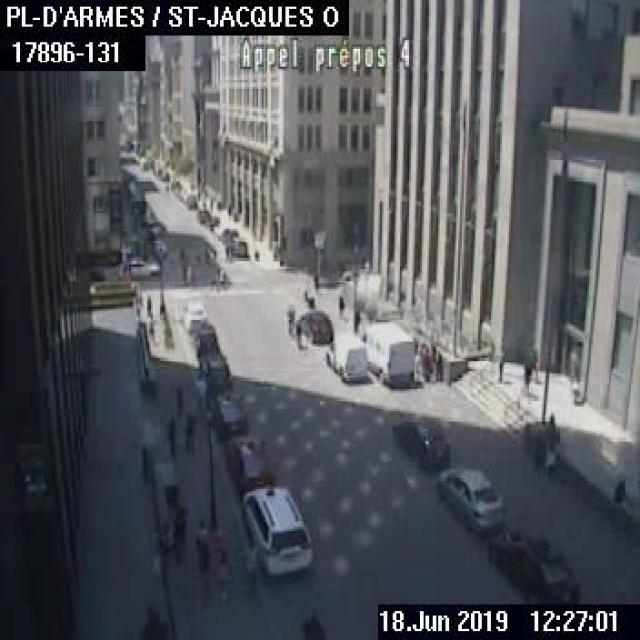pedestrian: (608, 476, 626, 518), (172, 502, 186, 550), (543, 442, 556, 478), (182, 411, 192, 452), (532, 441, 543, 477), (165, 416, 174, 456), (521, 355, 531, 390), (146, 312, 154, 344), (174, 384, 182, 416), (285, 302, 293, 334), (432, 350, 440, 380), (352, 304, 360, 331), (531, 351, 538, 381), (294, 319, 301, 348), (337, 293, 343, 317), (145, 292, 150, 314)
vehicle: (489, 529, 580, 604), (434, 466, 504, 530), (361, 319, 413, 385), (391, 419, 448, 467), (324, 332, 366, 382), (296, 309, 332, 342), (111, 255, 160, 278), (224, 235, 246, 256), (152, 238, 166, 255), (219, 226, 236, 240), (203, 214, 218, 229), (183, 193, 196, 207), (195, 208, 208, 222)
